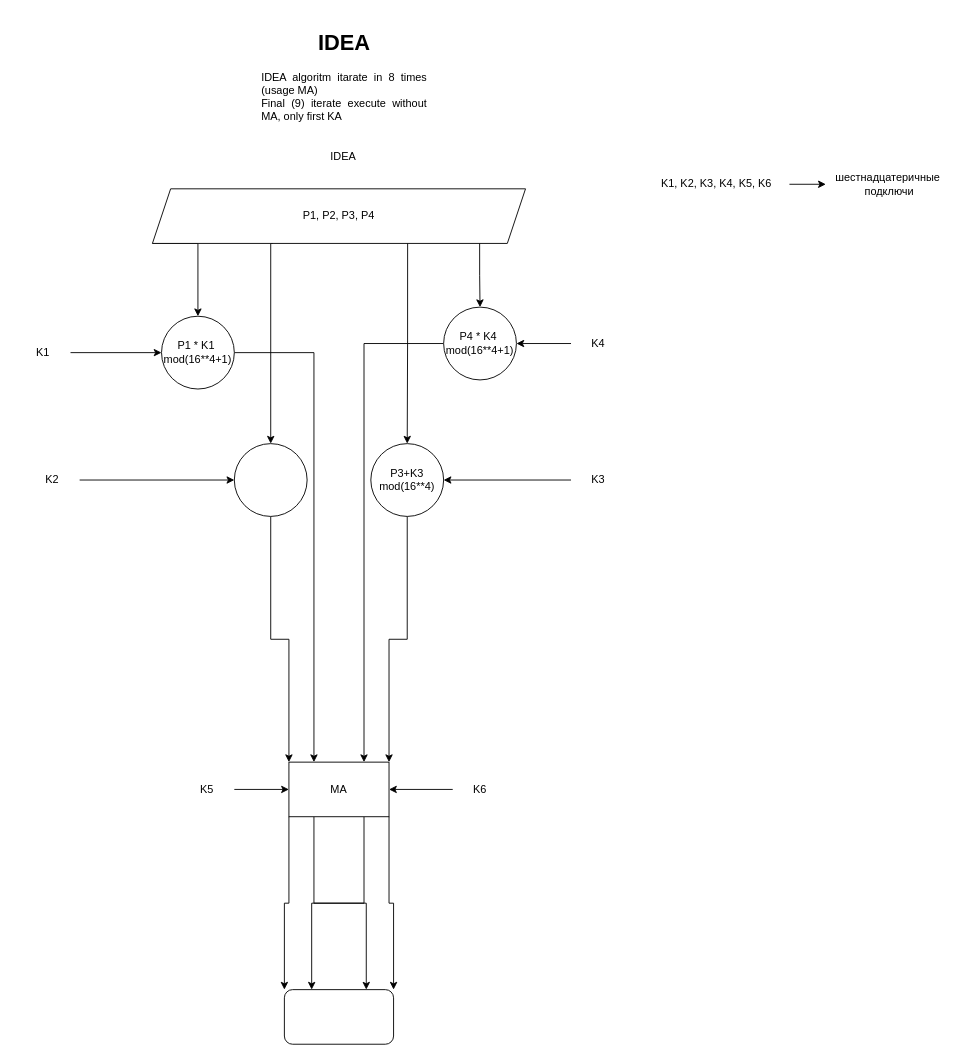
Some shapes in this 968 by 1060 pixel diagram are drawn without their labels. Here are the shapes that lost their labels. From the top down, the centre of each, then its label:
At point 270,479: "P2+K2 mod(16**4)".
At point 338,1016: "next round (P1, P3, P2, P4)".
